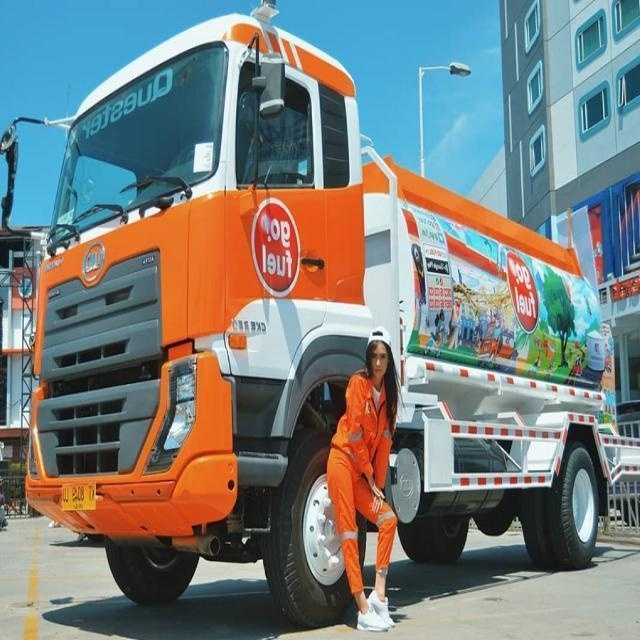Truck: (7, 12, 624, 605)
